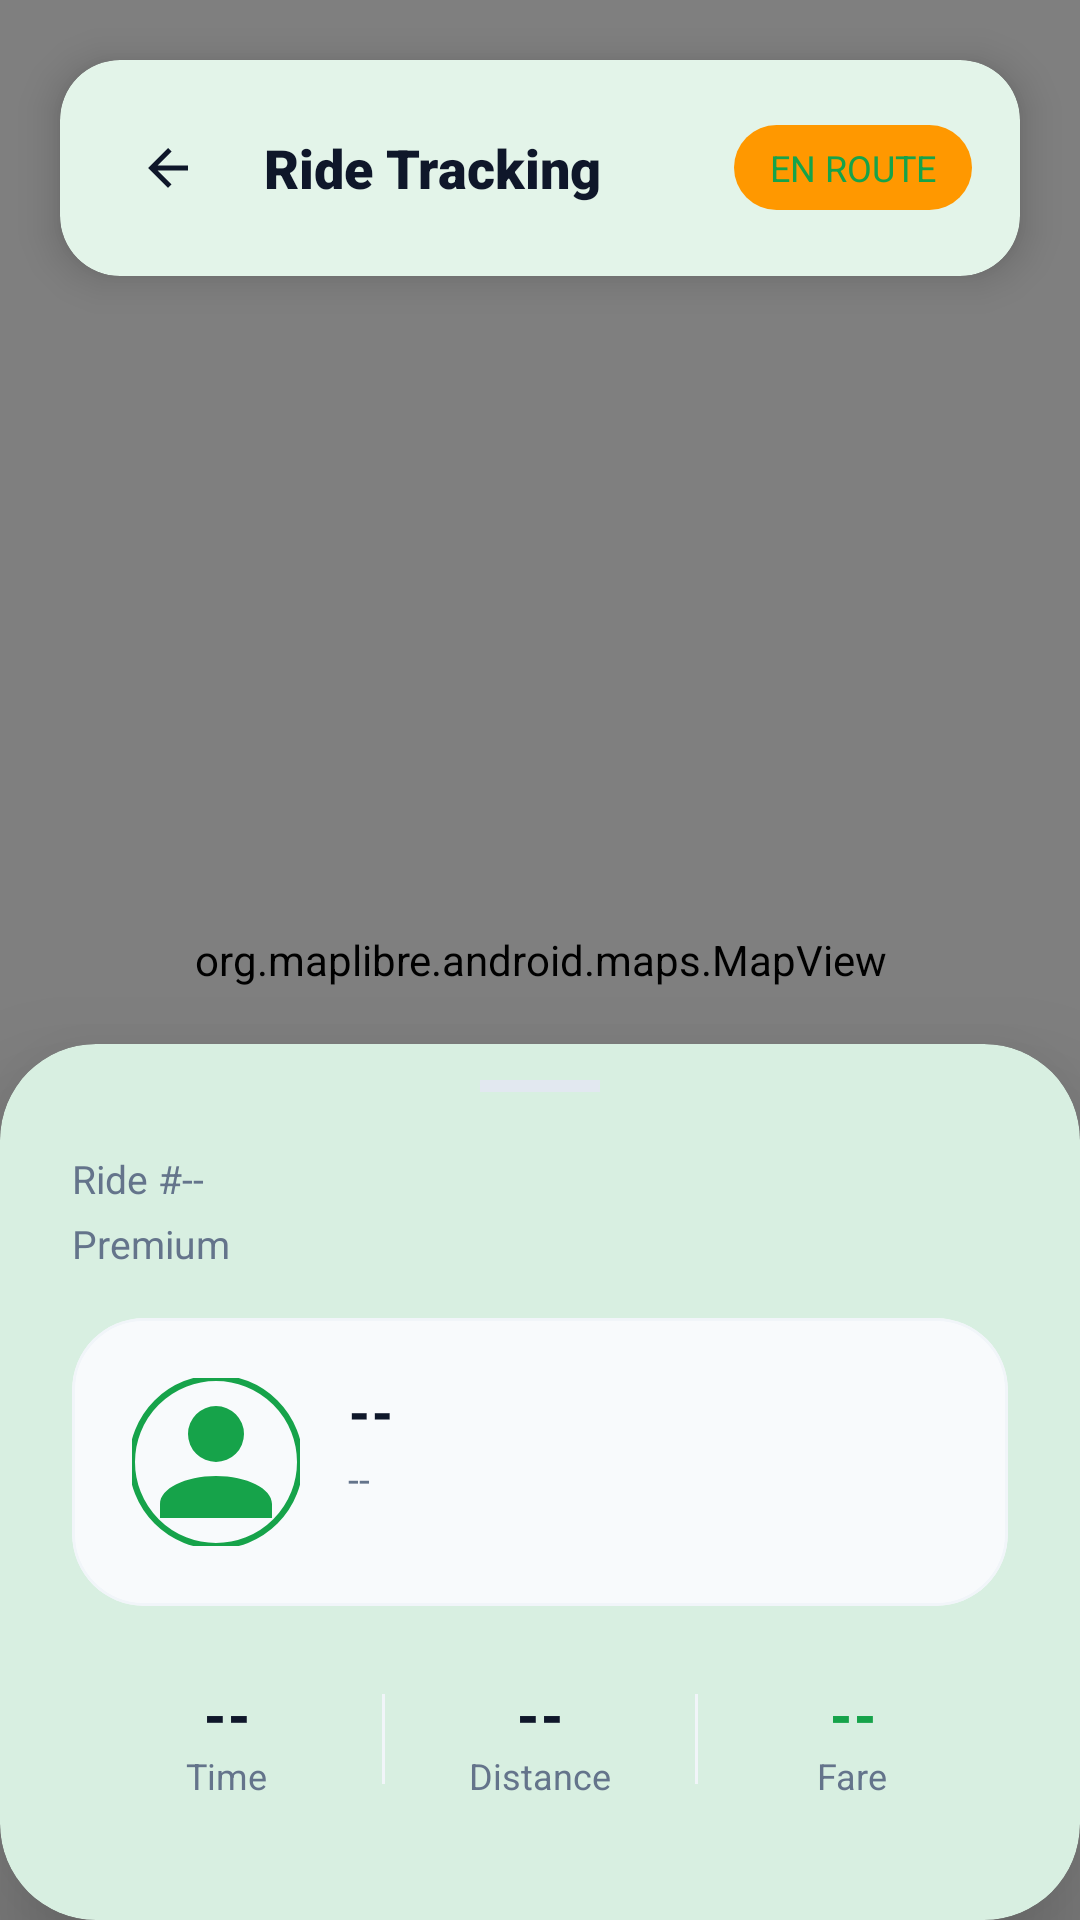

Named icons in this screenshot (1080 x 1920) and their centers, [x,y]:
arrow back: [168,168]
person: [216,1462]
